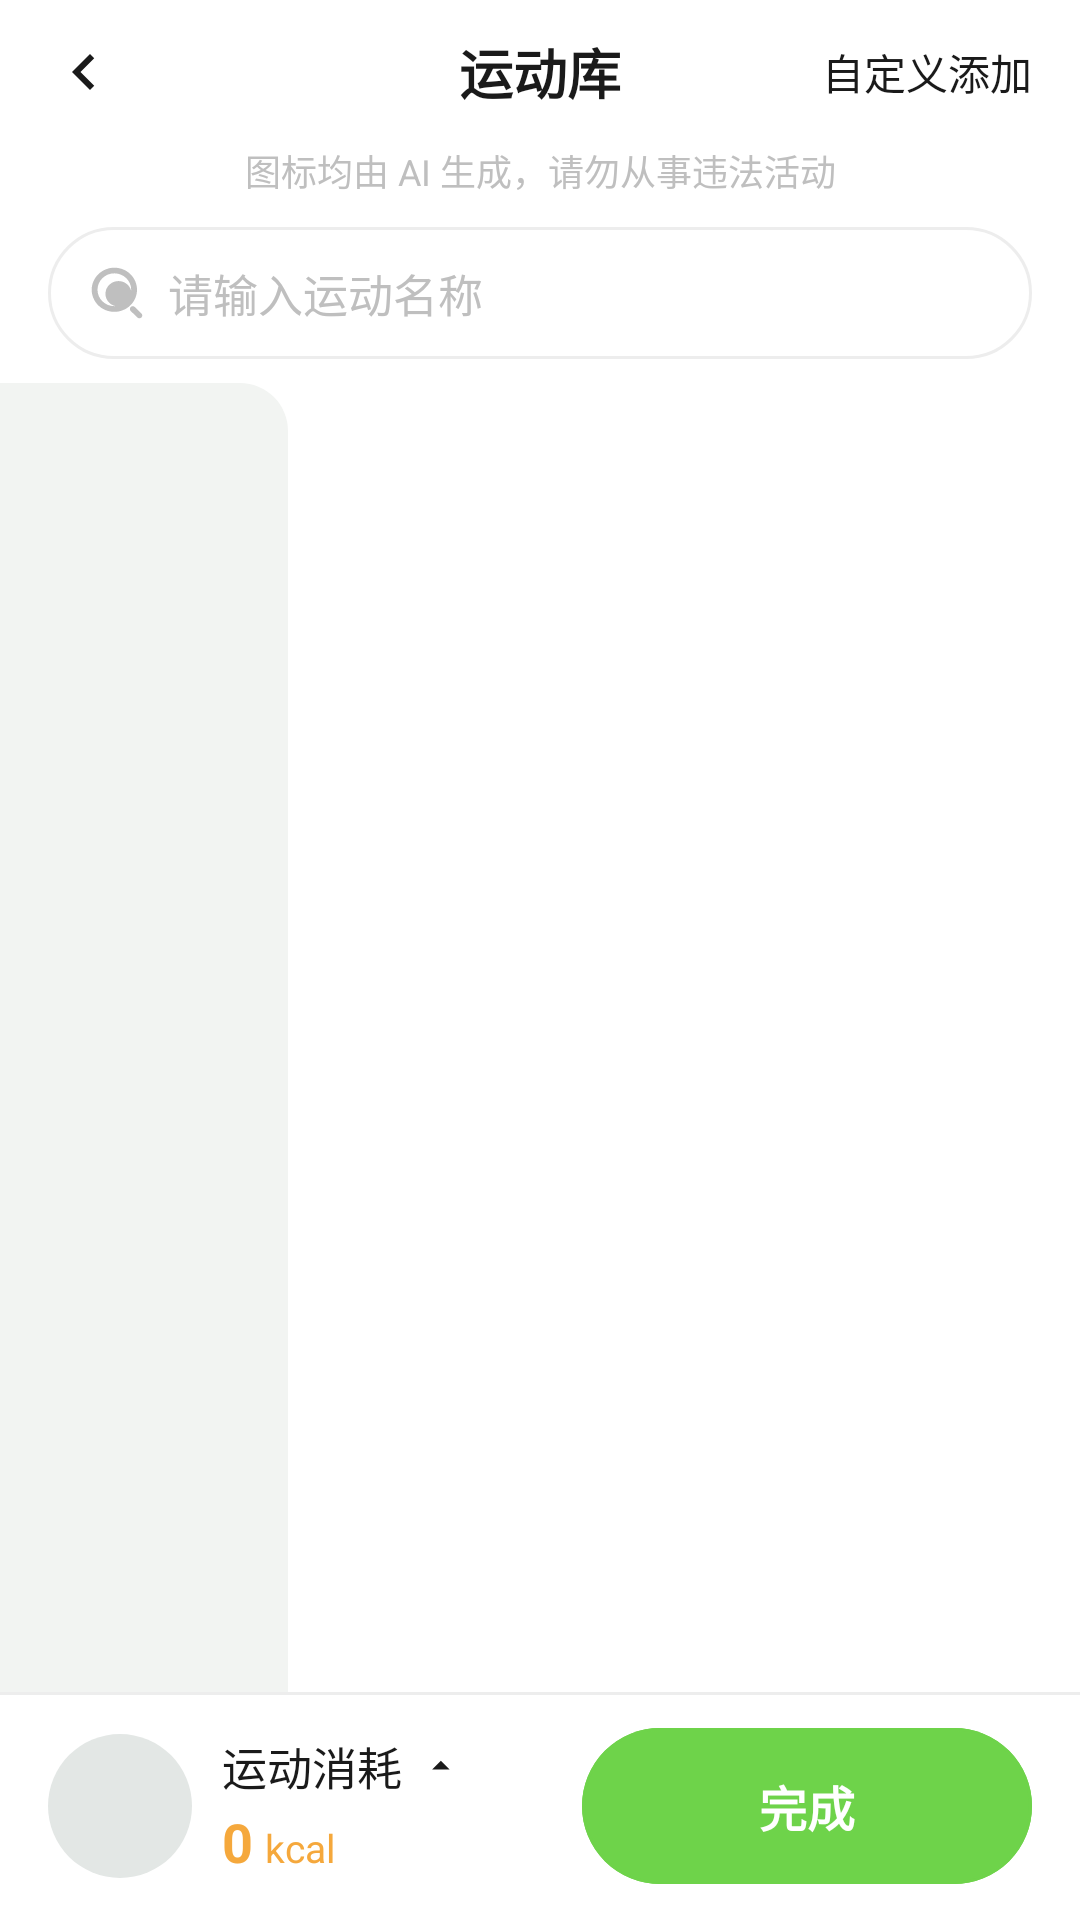

Where icons sit on this 1080 × 1920 app screen, as region(x1, y1, x2, y2):
search food: region(92, 268, 142, 318)
返回: region(72, 54, 94, 90)
